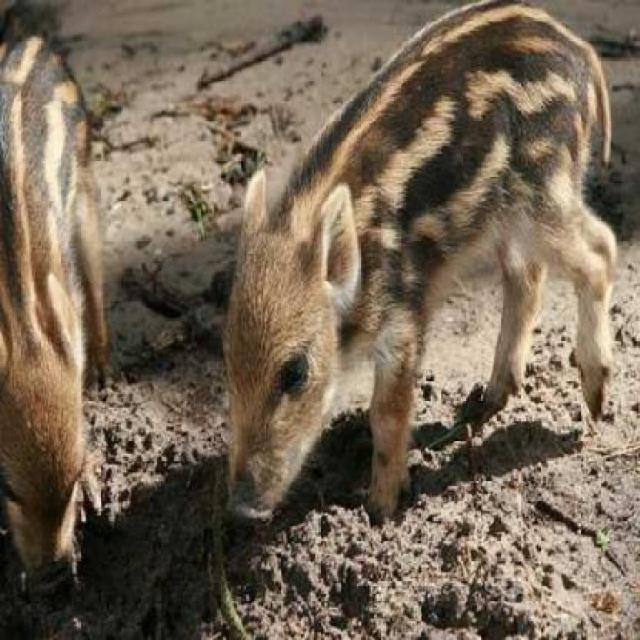pig: (204, 40, 638, 510), (0, 0, 158, 598)
